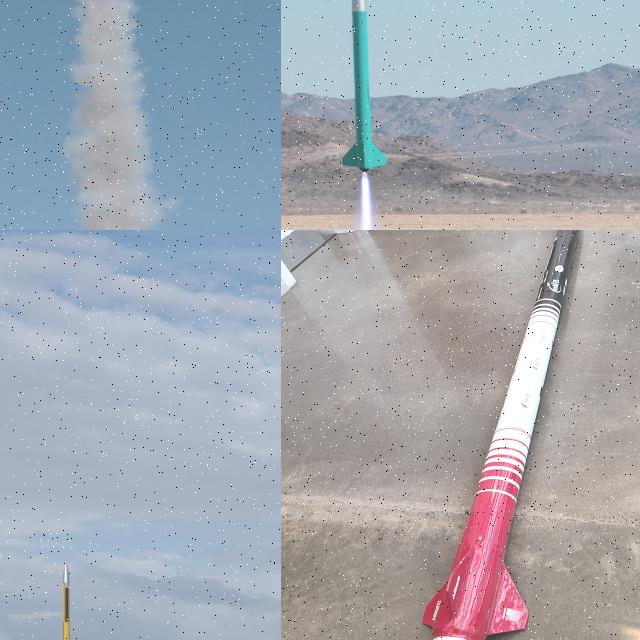Rocket: (422, 230, 580, 640), (340, 0, 389, 172), (56, 561, 82, 640)
